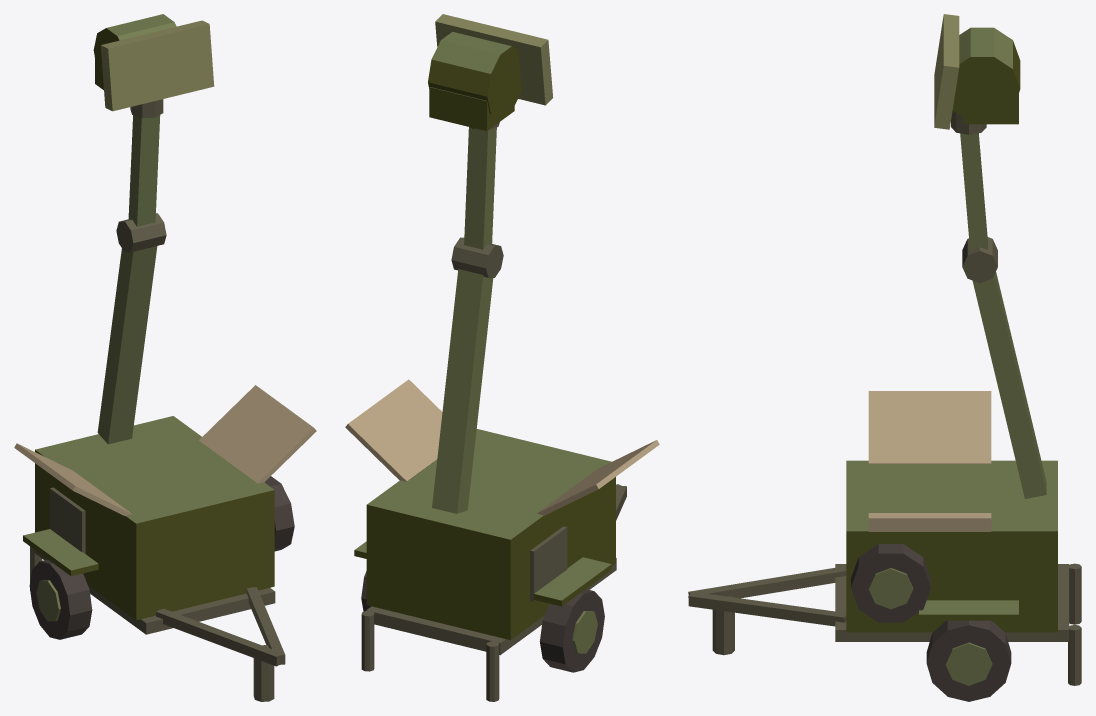
Rendered from SM_Radar_v0_RecienLlegado_LOD0.fbx.
3 views of the same model, side by side, from view 1: azimuth 30°, elevation 25°; view 2: azimuth 150°, elevation 25°; view 3: azimuth 270°, elevation 25° (orthographic). The views are drawn at different scales.
Parts seen in each view (by area): view 1: SM_bloques.radar_v0_LOD0, Antena; view 2: SM_bloques.radar_v0_LOD0, Antena; view 3: SM_bloques.radar_v0_LOD0, Antena.
Boxes of the visible parts, x1,y1,x2,y2 form: SM_bloques.radar_v0_LOD0: [14, 115, 316, 701]; Antena: [93, 14, 214, 118]; SM_bloques.radar_v0_LOD0: [345, 127, 659, 701]; Antena: [428, 14, 553, 131]; SM_bloques.radar_v0_LOD0: [688, 133, 1081, 701]; Antena: [934, 14, 1020, 134].
Bounding box in the file's own units: 2.64 × 6.07 × 3.53.
